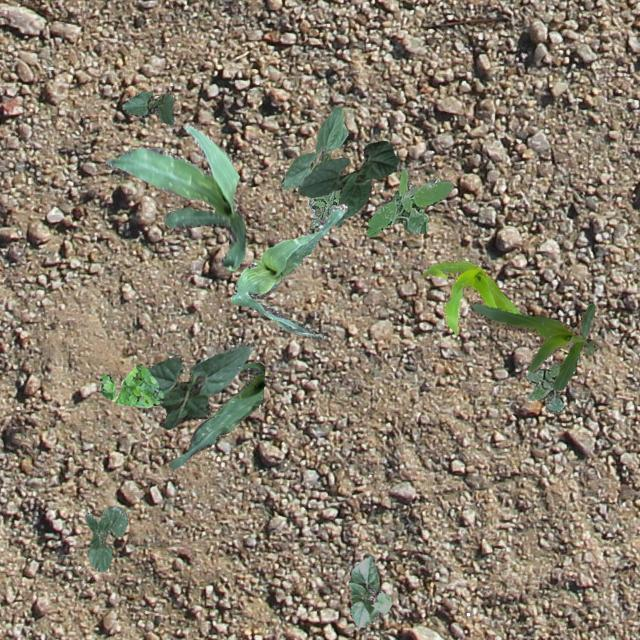crop: (104, 126, 245, 270), (230, 202, 346, 340), (419, 258, 568, 352), (468, 300, 598, 390), (168, 362, 264, 468), (146, 342, 252, 428), (296, 140, 396, 226), (280, 106, 346, 188), (348, 554, 392, 626), (85, 506, 126, 570), (120, 90, 173, 124)
weed: (366, 168, 452, 235), (524, 354, 578, 412), (96, 364, 162, 406), (307, 188, 339, 228)
